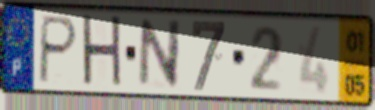2: (249, 24, 286, 94)
4: (296, 23, 333, 98)
7: (189, 19, 228, 93)
H: (80, 12, 125, 93)
N: (136, 18, 183, 91)
P: (35, 13, 81, 86)
